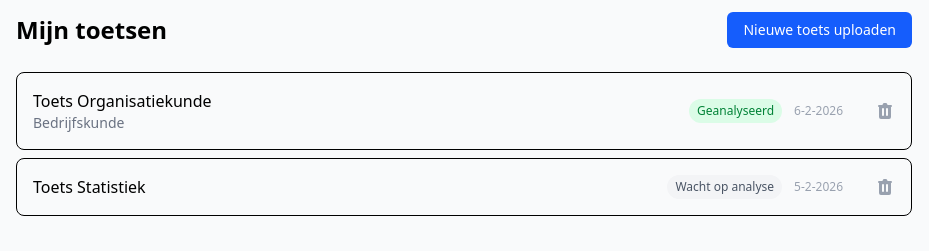
Home — exam deletion › T12.5: exam disappears from list after successful deletion
The image size is (929, 251).
Expected: the text "Toets Organisatiekunde" is shown, [33,89,212,113]
Click the button titled "Toets verwijderen" at (885, 111), box [859,85,911,137]
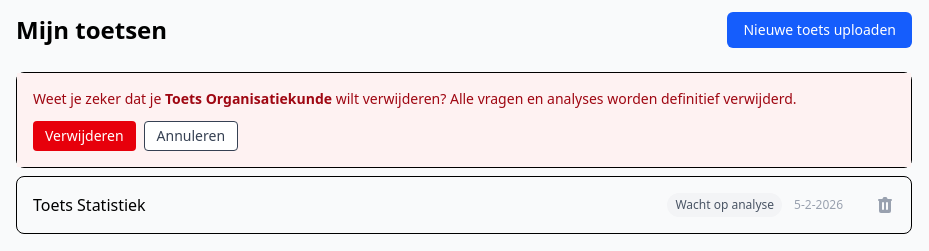
Click the button "Verwijderen" at (84, 136), box [33,121,136,151]
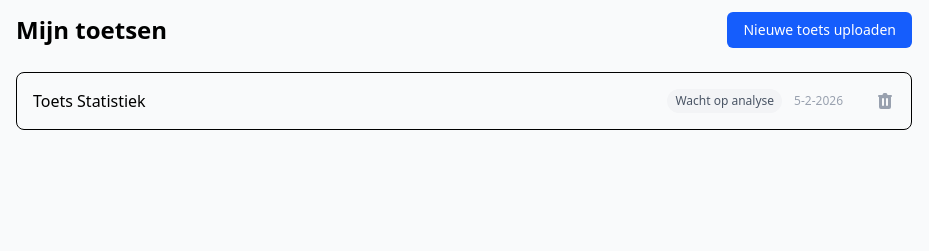
Expected: the text "Toets Statistiek" is shown, [33,89,146,113]
Result: the text "Toets Organisatiekunde" is gone
